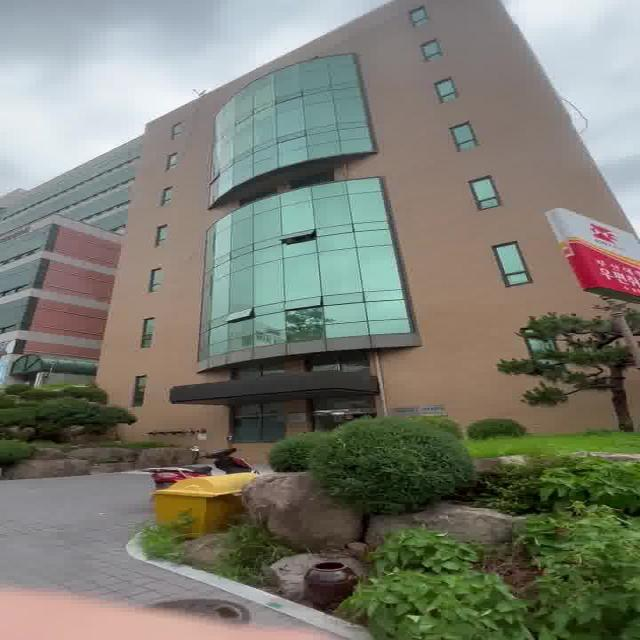building: (156, 55, 498, 412)
